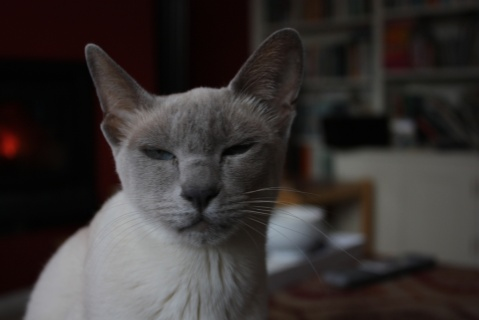Cat: (21, 27, 367, 320)
